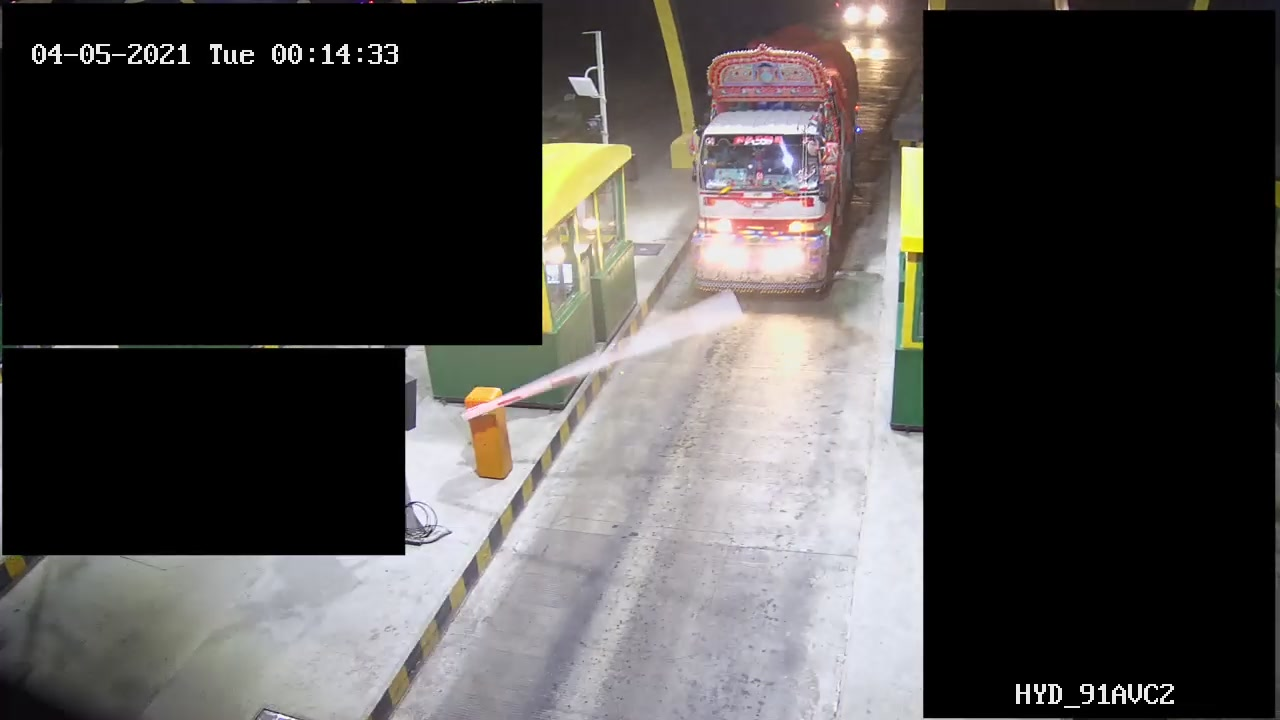F5: (689, 29, 868, 303)
